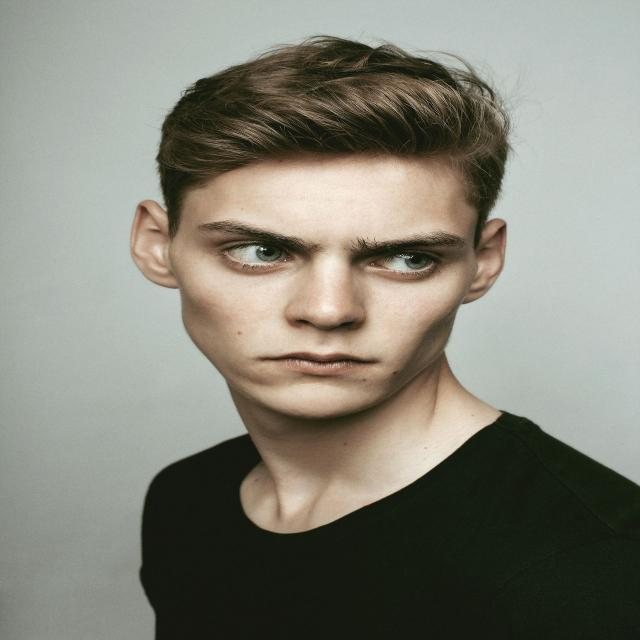front: (205, 208, 457, 385)
